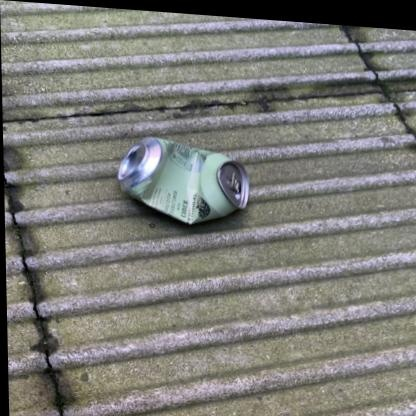trash: (117, 137, 248, 223)
